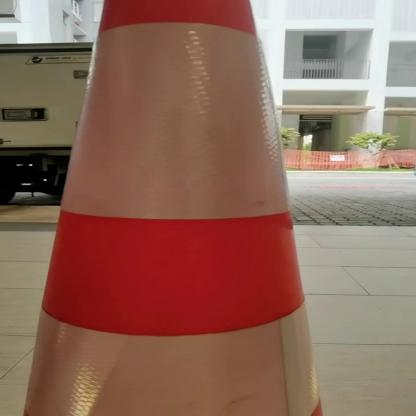cone: (23, 0, 349, 416)
